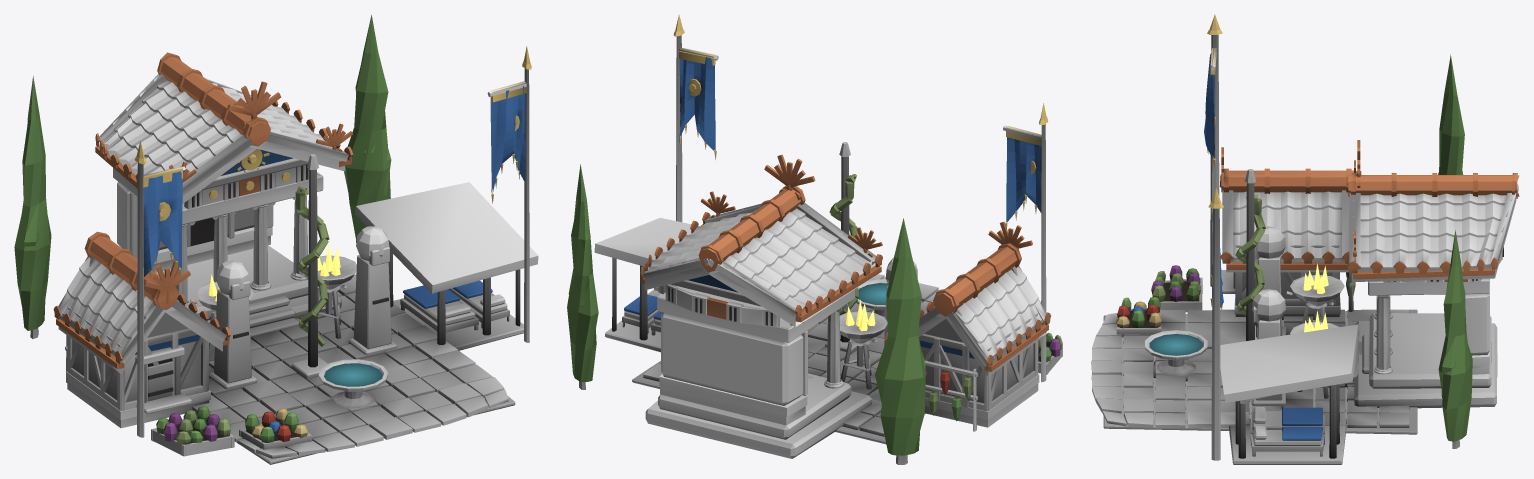
The model's file is healers-hut-l3.glb.
3 renders of one model, left to right at view 1: azimuth 30°, elevation 25°; view 2: azimuth 150°, elevation 25°; view 3: azimuth 270°, elevation 25°, orthographic. The views are drawn at different scales.
Visible parts, largest first — view 1: healers-hut-l3; view 2: healers-hut-l3; view 3: healers-hut-l3.
Part boxes in pixels (x1=…): healers-hut-l3: x1=14, y1=15, x2=538, y2=464; healers-hut-l3: x1=567, y1=14, x2=1062, y2=464; healers-hut-l3: x1=1091, y1=14, x2=1519, y2=464.
Size of the model in its own units: 1.54 by 1.05 by 1.48.
